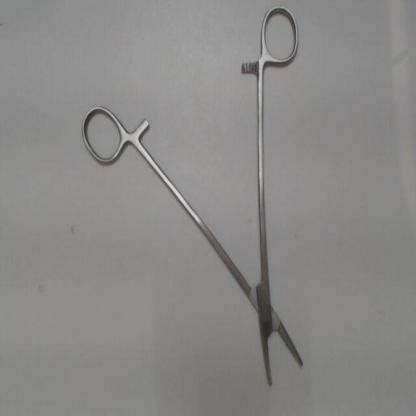8 Mayo Needle Holder: (75, 0, 319, 408)
